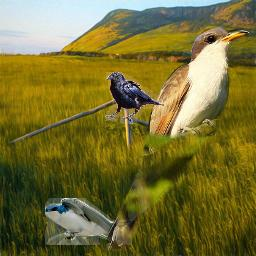Crow: (105, 72, 164, 124)
Cuckoo: (100, 23, 253, 256)
Swallow: (45, 198, 132, 245)
